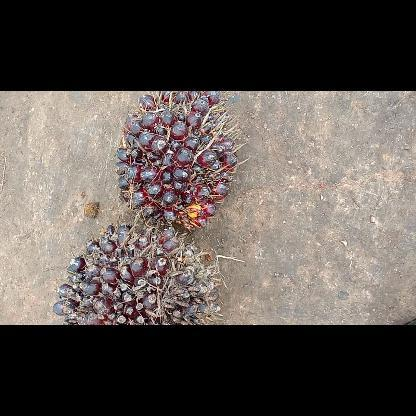TBS mentah: (116, 91, 240, 233), (56, 228, 222, 324)
